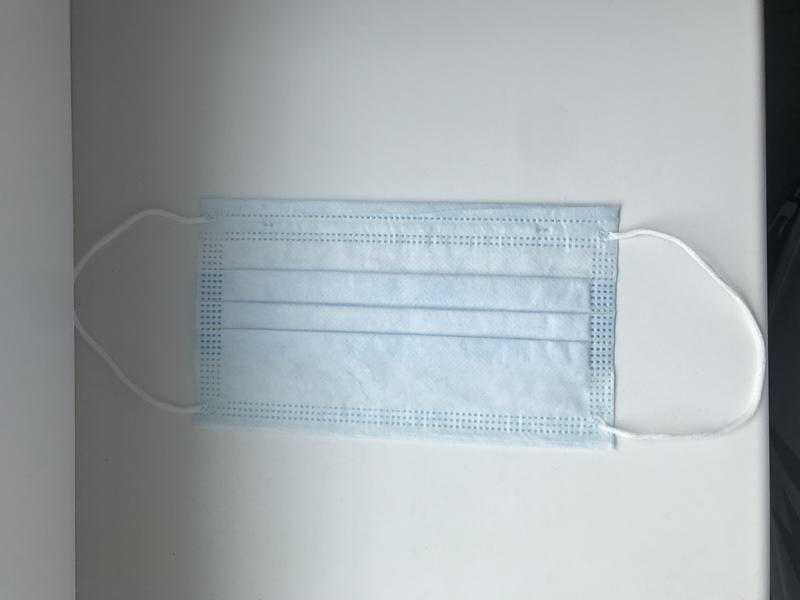medical_mask: (71, 198, 766, 453)
